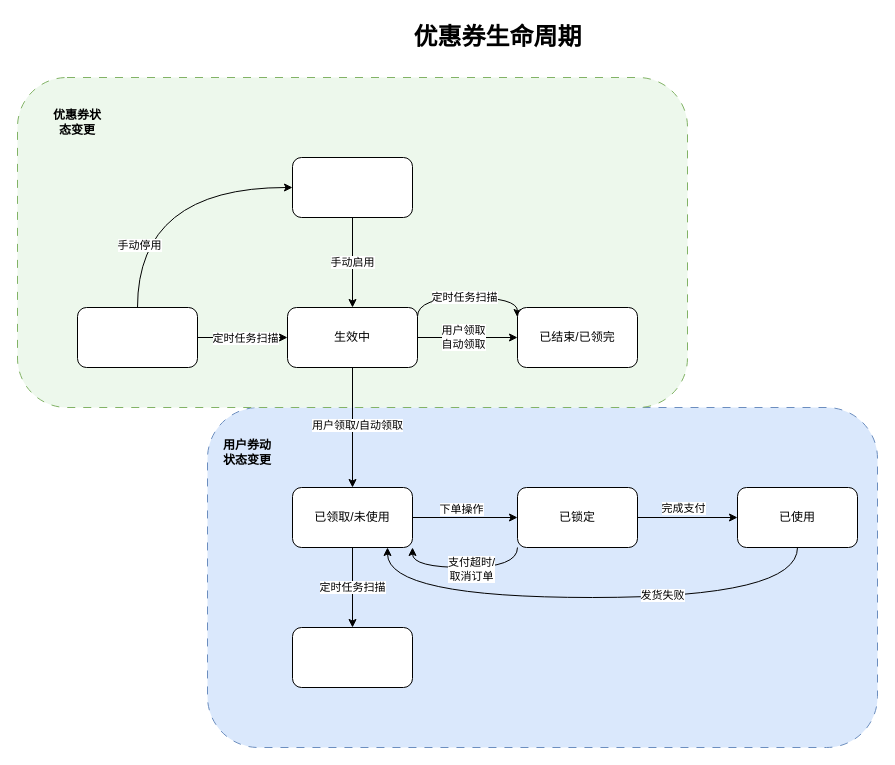
Some shapes in this 895 by 765 pixel diagram are drawn without their labels. Here are the shapes that lost their labels. From the top down, the box of each, then its label:
(292, 156, 412, 218): 已停用
(76, 306, 198, 368): 未生效
(292, 626, 412, 688): 已失效
